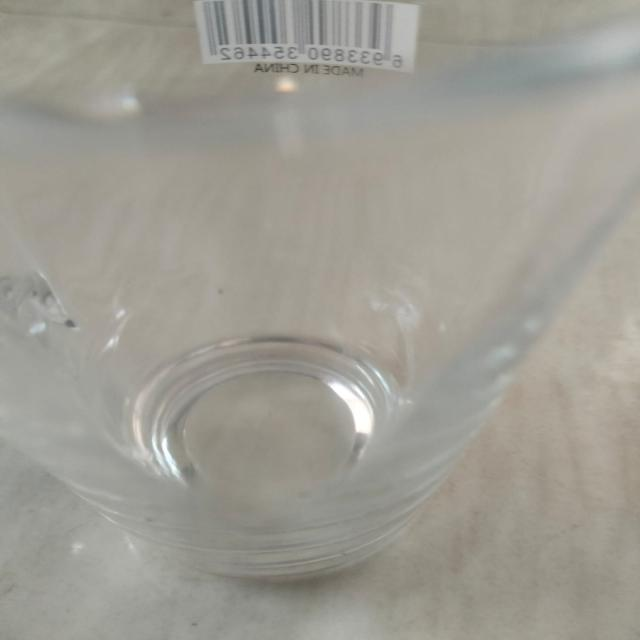glass-VX4N: (1, 3, 640, 588)
